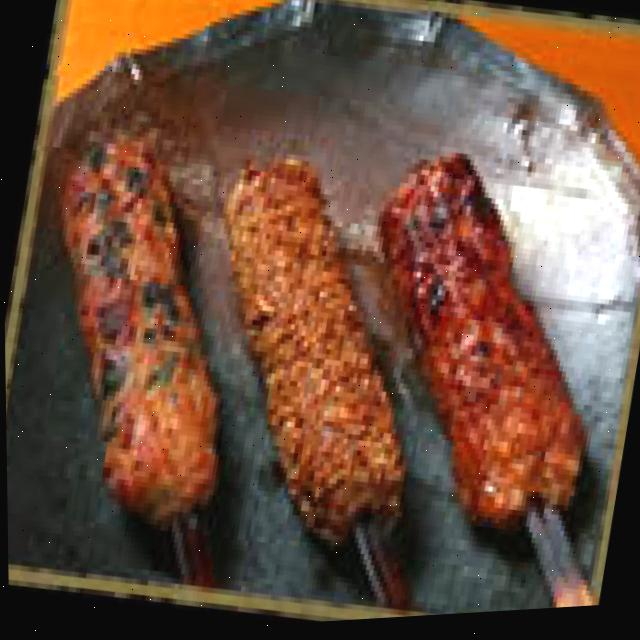烧串烤肉: (1, 64, 640, 640)
